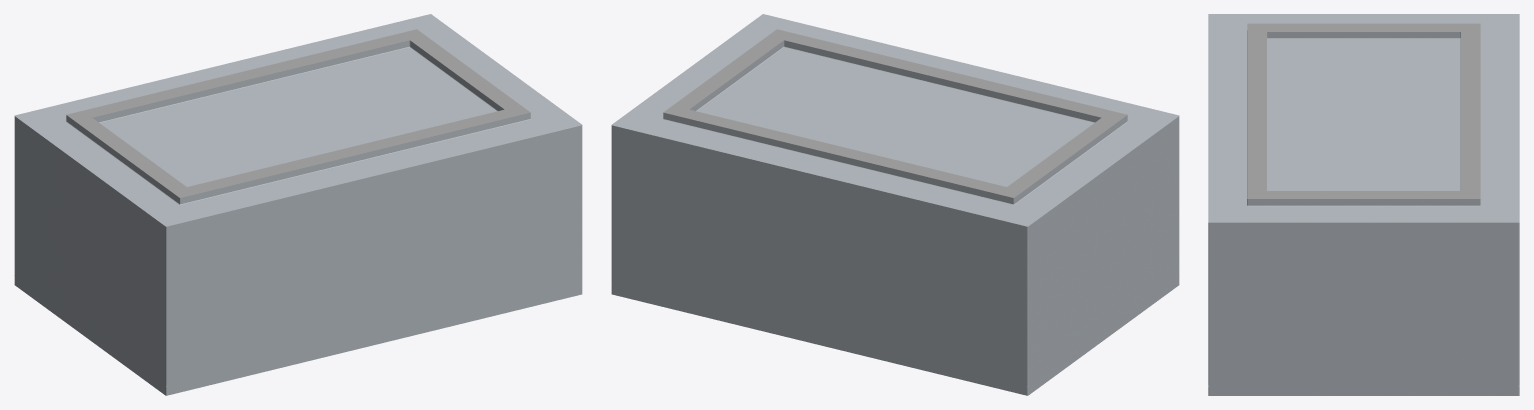
Rendered from Room_Var1.fbx.
3 renders of one model, left to right at view 1: azimuth 30°, elevation 25°; view 2: azimuth 150°, elevation 25°; view 3: azimuth 270°, elevation 25°, orthographic. The views are drawn at different scales.
Visible parts, largest first — view 1: msh_Room_WallsCeiling_Mesh1, msh_Room_Details_Mesh1; view 2: msh_Room_WallsCeiling_Mesh1, msh_Room_Details_Mesh1; view 3: msh_Room_WallsCeiling_Mesh1, msh_Room_Details_Mesh1.
Part boxes in pixels (x1,y1,x2,y2): msh_Room_WallsCeiling_Mesh1: [14, 14, 582, 395]; msh_Room_Details_Mesh1: [66, 29, 582, 386]; msh_Room_WallsCeiling_Mesh1: [611, 14, 1179, 395]; msh_Room_Details_Mesh1: [611, 29, 1127, 386]; msh_Room_WallsCeiling_Mesh1: [1208, 14, 1519, 395]; msh_Room_Details_Mesh1: [1208, 23, 1519, 386].
Size of the model in its own units: 14.63 by 5.9 by 9.24.
